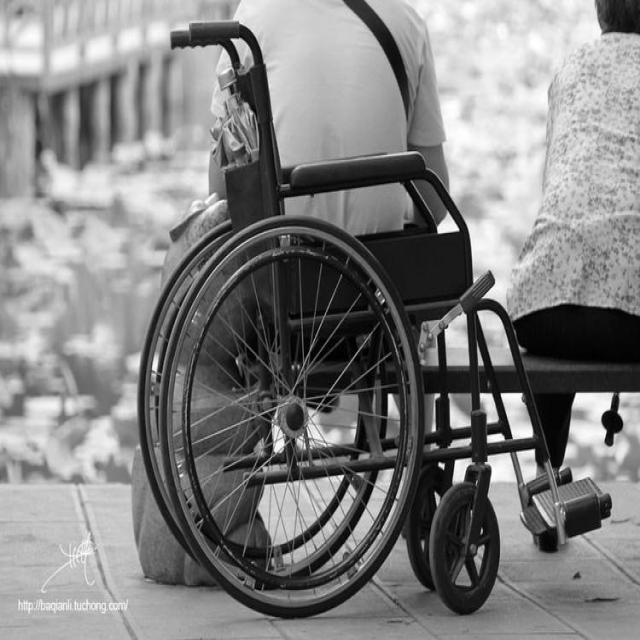wheelchairs: (136, 13, 615, 628)
